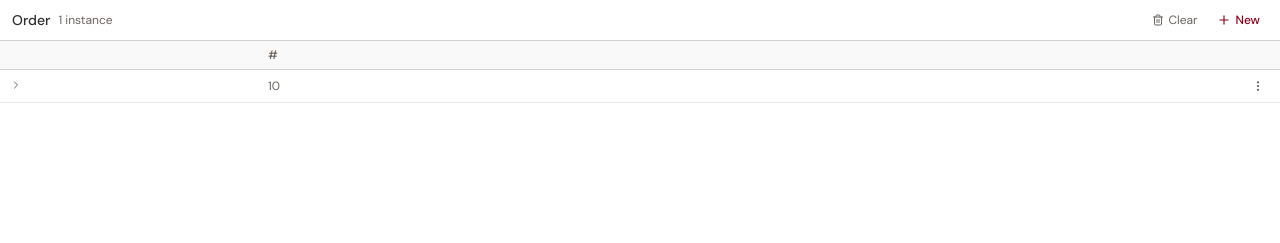
it: InstanceTable › does not leak an unnamed association value into other unnamed associations
Click the 3rd button.
click(16, 85)  # box [8, 77, 24, 93]
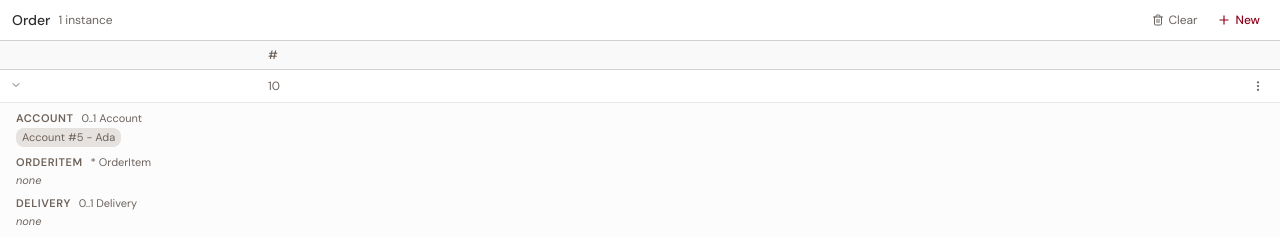
Now the text "Account #5 - Ada" is shown, box [16, 128, 121, 147]
